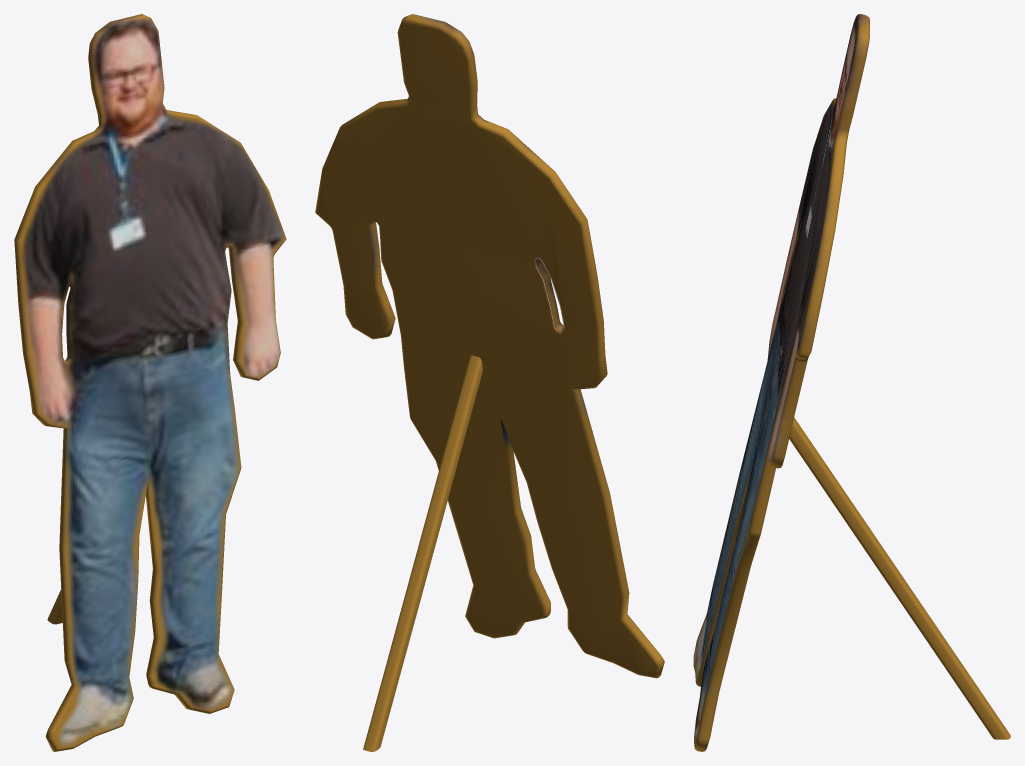
File: stevecutout.fbx
The picture shows the model from 3 angles, left to right: view 1: azimuth 30°, elevation 25°; view 2: azimuth 150°, elevation 25°; view 3: azimuth 270°, elevation 25°; orthographic projection. The views are drawn at different scales.
Parts seen in each view (by area): view 1: pCube2; view 2: pCube2; view 3: pCube2.
Part boxes in pixels (x1,y1,x2,y2): pCube2: [14, 14, 286, 751]; pCube2: [315, 14, 664, 751]; pCube2: [693, 14, 1010, 751].
Size of the model in its own units: 109 by 236 by 94.45.
